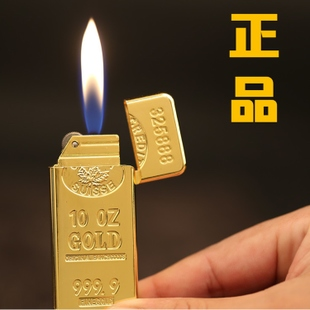Fire: (71, 17, 109, 133)
